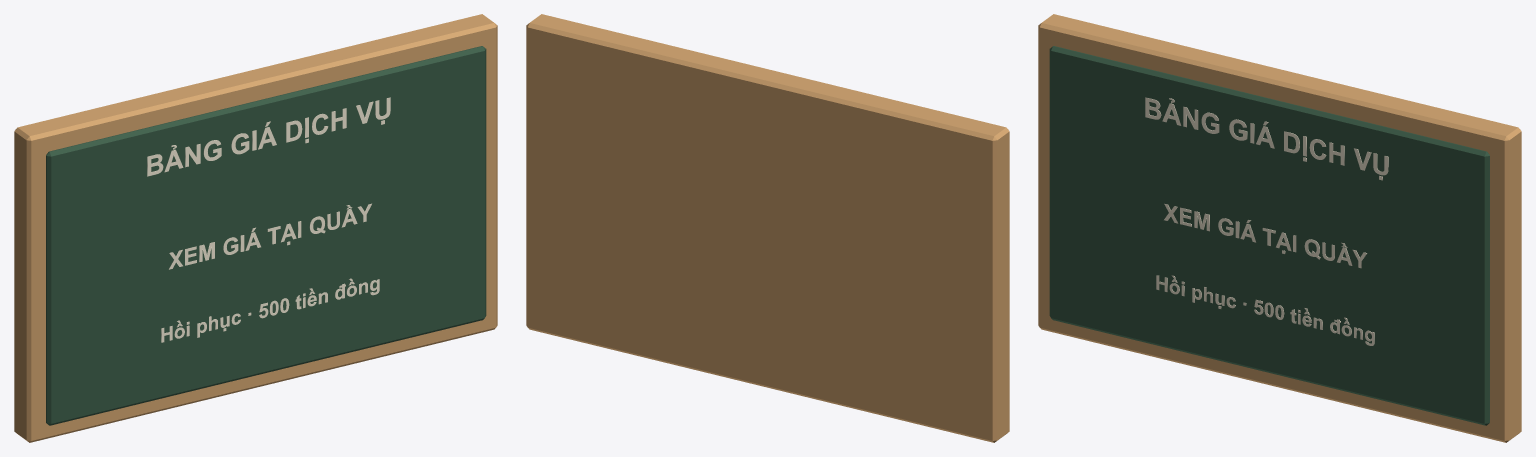
Rendered from price-board.glb.
3 views of the same model, side by side, from view 1: azimuth 30°, elevation 25°; view 2: azimuth 150°, elevation 25°; view 3: azimuth 330°, elevation 25° (orthographic).
Visible parts, largest first — view 1: price_board; view 2: price_board; view 3: price_board.
Boxes of the visible parts, x1,y1,x2,y2 form: price_board: [14, 14, 497, 442]; price_board: [526, 14, 1009, 442]; price_board: [1038, 14, 1521, 442].
Bounding box in the file's own units: 2.25 × 1.4 × 0.186.
